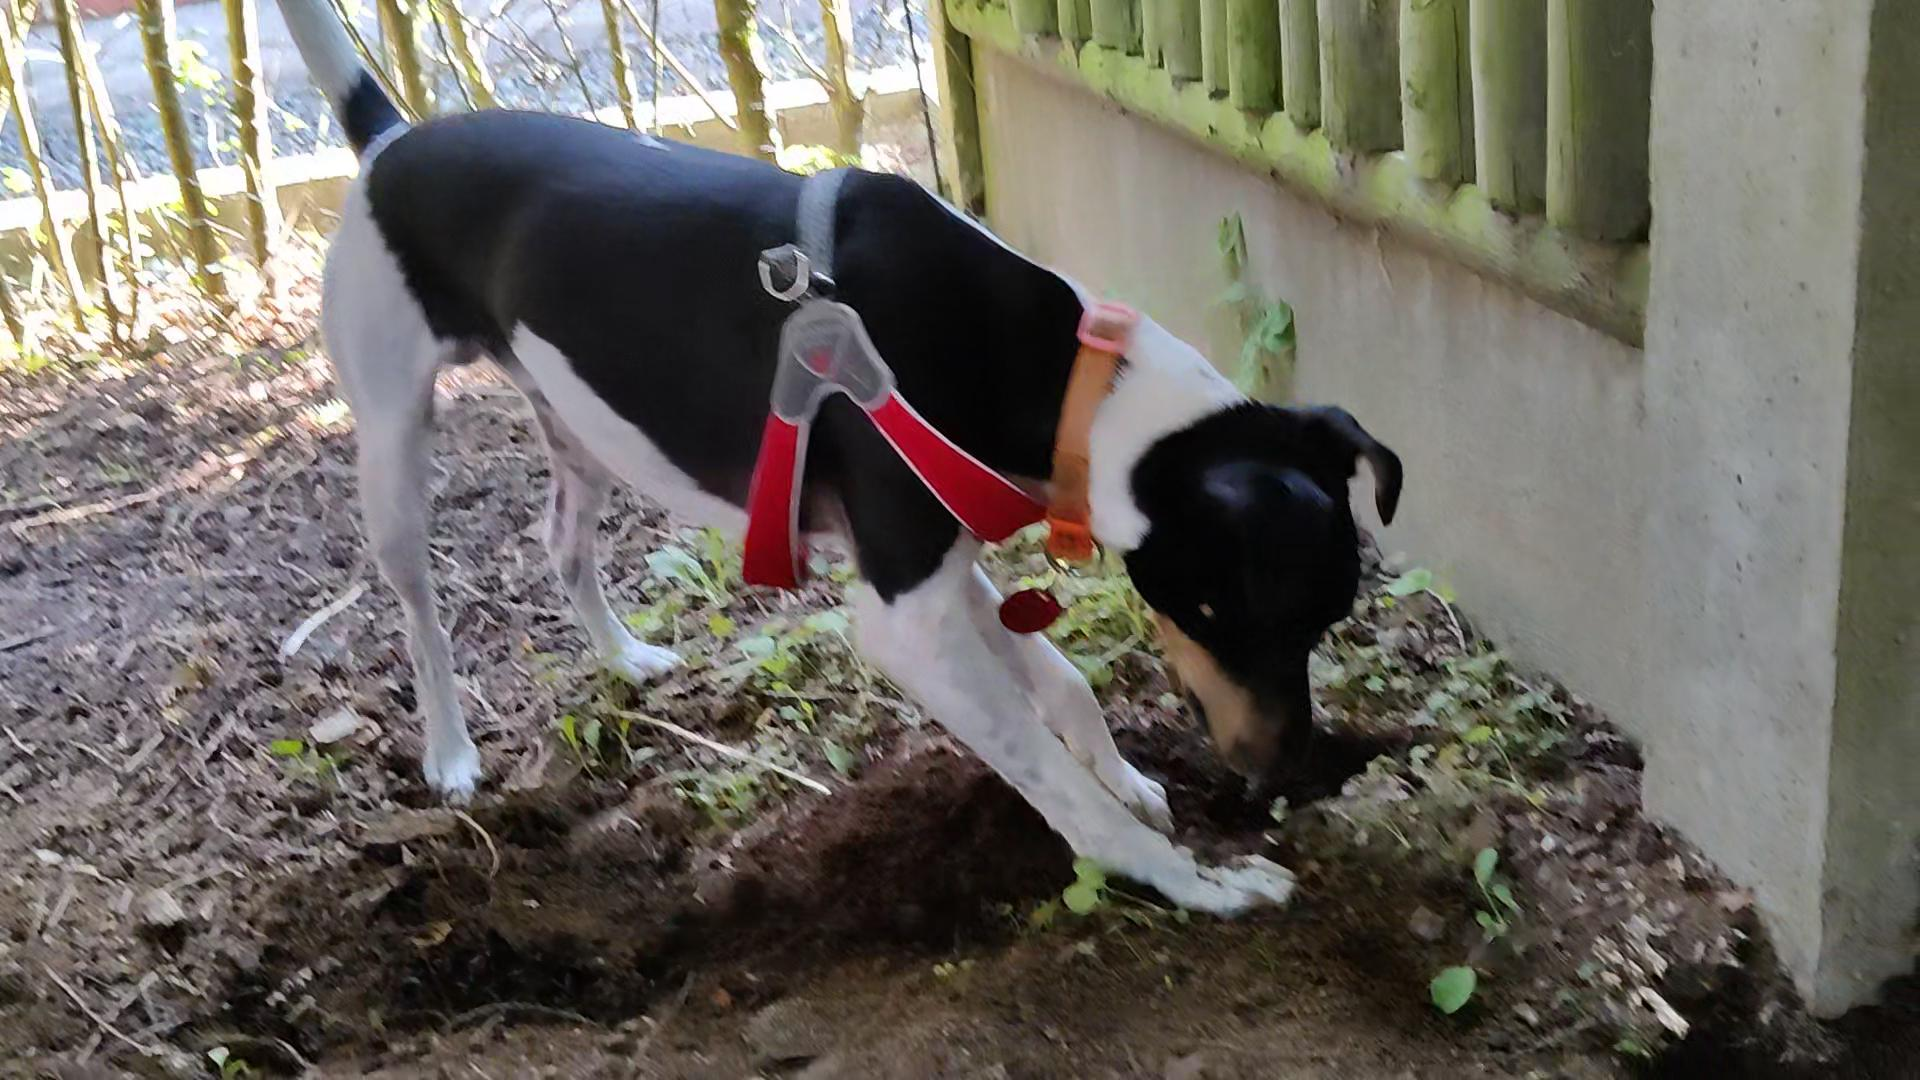Dog: (269, 0, 1414, 928)
